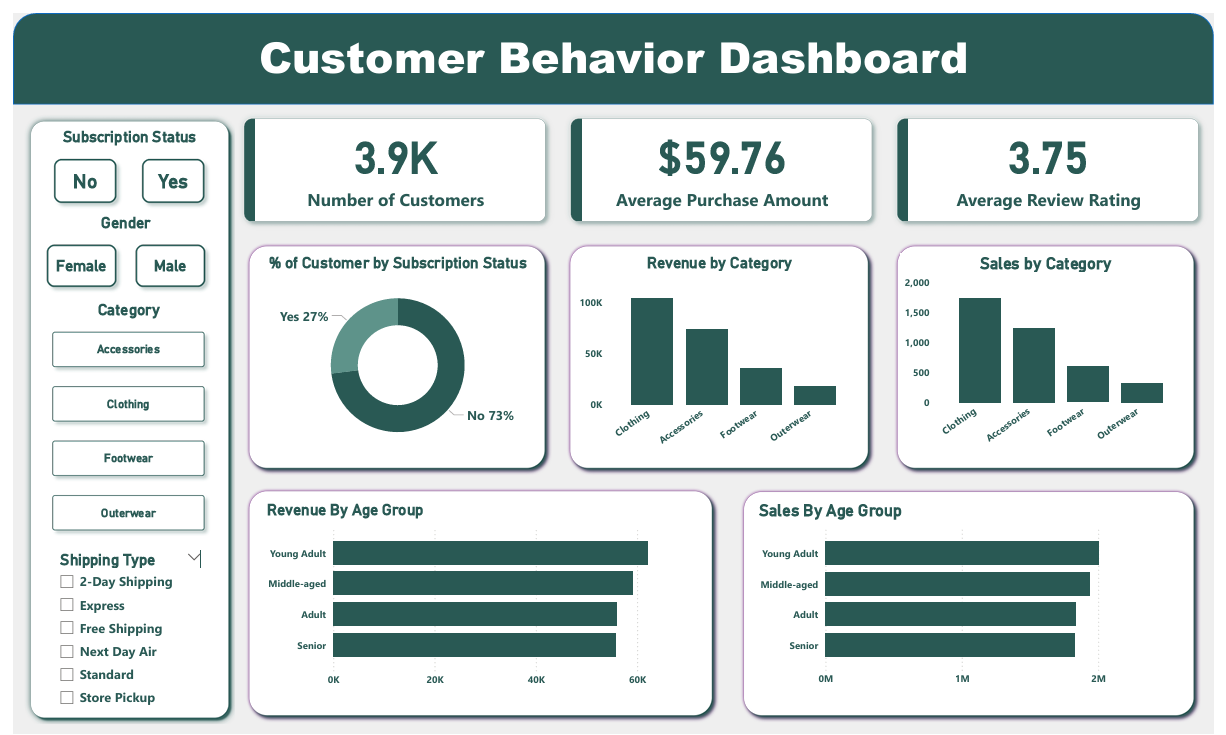

What the dashboard file says about the page in this screenshot:
{"tool":"powerbi","page":{"name":"Page 1","canvas":[1500,900],"ordinal":0},"visuals":[{"type":"cardVisual","fields":{"Data":["customer_behavior customer.Number of Customers","customer_behavior customer.Average Purchase Amount","customer_behavior customer.Average Review Rating"]},"box":[272.3,114.6,1227.7,162.2],"z":0},{"type":"shape","box":[0,0,1500.4,114],"z":1000},{"type":"textbox","box":[0,11.3,1500.3,90.1],"z":2000},{"type":"shape","box":[285.7,282.1,387.5,294.6],"z":3000},{"type":"donutChart","title":"% of Customer by Subscription Status ","fields":{"Category":["customer_behavior customer.subscription_status"],"Y":["Count(customer_behavior customer.customer_id)"]},"box":[307.1,300,346.4,257.1],"z":4000},{"type":"shape","box":[1096.4,282.1,387.5,294.6],"z":5000},{"type":"shape","box":[687.5,282.1,389.3,294.6],"z":6000},{"type":"clusteredColumnChart","title":"Revenue by Category","fields":{"Y":["Sum(customer_behavior customer.purchase_amount)"],"Category":["customer_behavior customer.category"]},"box":[701.8,300,360.7,258.9],"z":7000},{"type":"clusteredColumnChart","title":"Sales by Category","fields":{"Y":["CountNonNull(customer_behavior customer.customer_id)"],"Category":["customer_behavior customer.category"]},"box":[1108.9,300,362.5,257.1],"z":8000},{"type":"shape","box":[14.3,126.8,262.5,760.7],"z":9000},{"type":"advancedSlicerVisual","title":"Subscription Status","fields":{"Values":["customer_behavior customer.subscription_status"]},"box":[33.9,142.9,223.2,110.7],"z":10000},{"type":"advancedSlicerVisual","title":"Category","fields":{"Values":["customer_behavior customer.category"]},"box":[32.1,358.9,225,307.1],"z":11000},{"type":"slicer","fields":{"Values":["customer_behavior customer.shipping_type"]},"box":[46.4,666.1,201.8,207.1],"z":12000},{"type":"shape","box":[285.7,587.5,596.4,298.2],"z":13000},{"type":"clusteredBarChart","title":"Revenue By Age Group","fields":{"Y":["Sum(customer_behavior customer.purchase_amount)"],"Category":["customer_behavior customer.age_group"]},"box":[312.5,608.9,546.4,241.1],"z":14000},{"type":"shape","box":[903.6,589.3,580.4,296.4],"z":15000},{"type":"clusteredBarChart","title":"Sales By Age Group","fields":{"Y":["Sum(customer_behavior customer.customer_id)"],"Category":["customer_behavior customer.age_group"]},"box":[926.8,608.9,533.9,241.1],"z":16000},{"type":"advancedSlicerVisual","title":"Gender","fields":{"Values":["customer_behavior customer.gender"]},"box":[25,250,232.1,108.9],"z":17000}]}

Visuals, with their boxes in screenshot pixels (x1, y1, x2, y2), scaled from the page's 1500x900 canvas onto the 1226x735 screenshot:
cardVisual - customer_behavior customer.Number of Customers x customer_behavior customer.Average Purchase Amount: (x1=223, y1=94, x2=1225, y2=226)
shape: (x1=0, y1=0, x2=1225, y2=93)
textbox: (x1=0, y1=9, x2=1225, y2=83)
shape: (x1=234, y1=230, x2=550, y2=471)
"% of Customer by Subscription Status " donutChart: (x1=251, y1=245, x2=534, y2=455)
shape: (x1=896, y1=230, x2=1213, y2=471)
shape: (x1=562, y1=230, x2=880, y2=471)
"Revenue by Category" clusteredColumnChart: (x1=574, y1=245, x2=868, y2=456)
"Sales by Category" clusteredColumnChart: (x1=906, y1=245, x2=1203, y2=455)
shape: (x1=12, y1=104, x2=226, y2=725)
"Subscription Status" advancedSlicerVisual: (x1=28, y1=117, x2=210, y2=207)
"Category" advancedSlicerVisual: (x1=26, y1=293, x2=210, y2=544)
slicer - customer_behavior customer.shipping_type: (x1=38, y1=544, x2=203, y2=713)
shape: (x1=234, y1=480, x2=721, y2=723)
"Revenue By Age Group" clusteredBarChart: (x1=255, y1=497, x2=702, y2=694)
shape: (x1=739, y1=481, x2=1213, y2=723)
"Sales By Age Group" clusteredBarChart: (x1=758, y1=497, x2=1194, y2=694)
"Gender" advancedSlicerVisual: (x1=20, y1=204, x2=210, y2=293)
